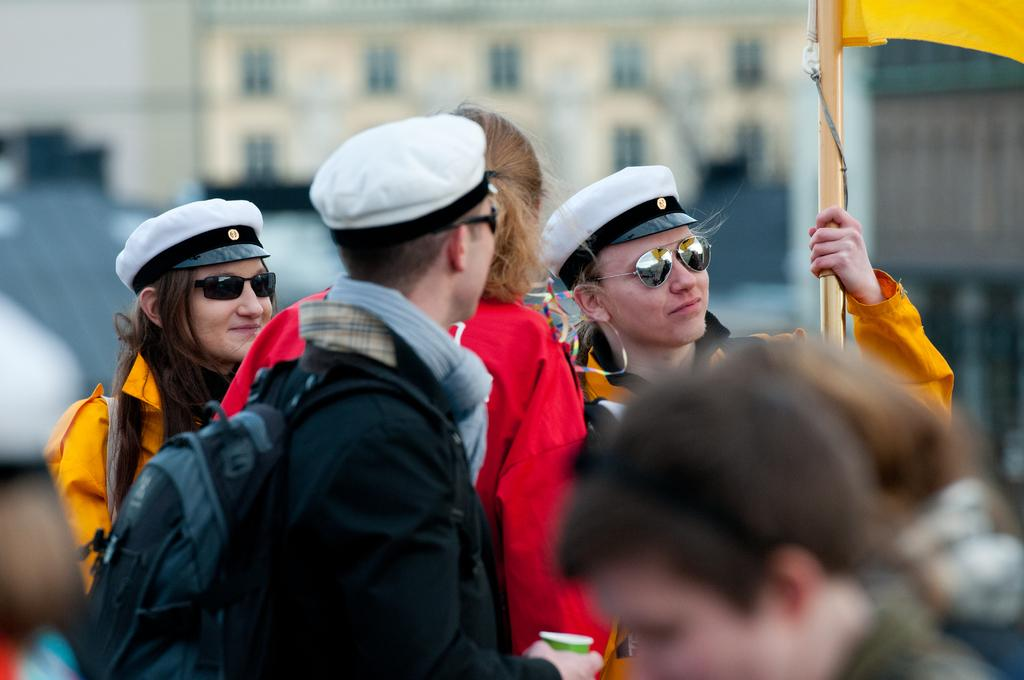Hat: (308, 112, 498, 243), (534, 166, 696, 291), (114, 195, 272, 294)
